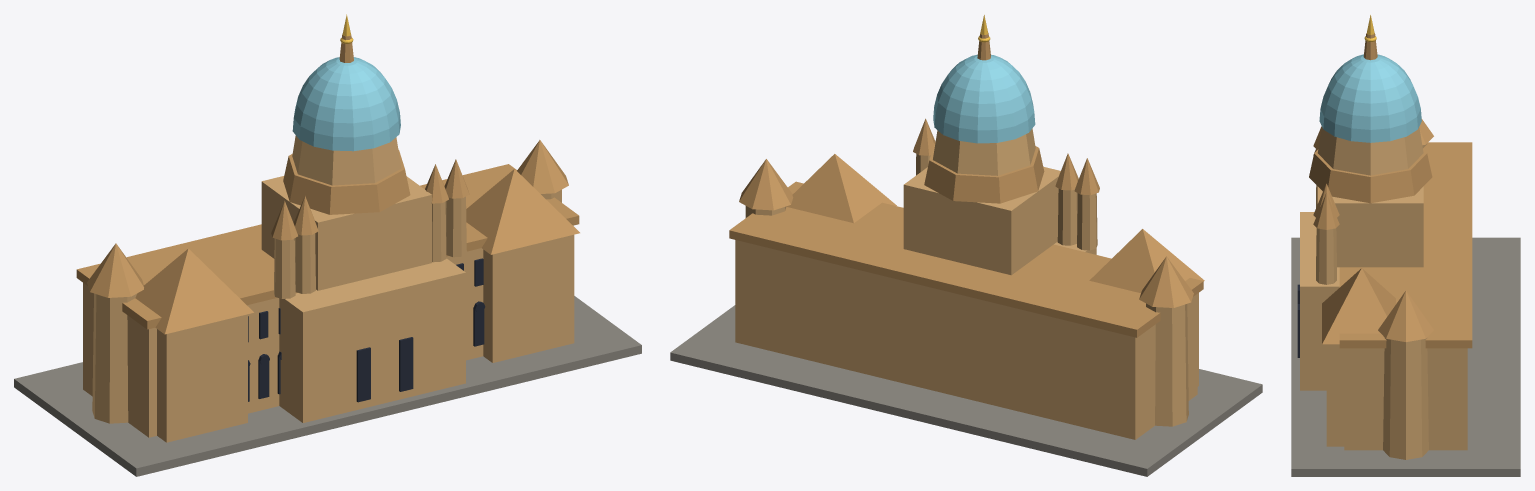
Rendered from csmt.glb.
3 renders of one model, left to right at view 1: azimuth 30°, elevation 25°; view 2: azimuth 150°, elevation 25°; view 3: azimuth 270°, elevation 25°, orthographic. The views are drawn at different scales.
Visible parts, largest first — view 1: csmt; view 2: csmt; view 3: csmt.
Boxes of the visible parts, bbox=[...] form: csmt: bbox=[14, 14, 641, 476]; csmt: bbox=[670, 15, 1262, 476]; csmt: bbox=[1291, 15, 1520, 476].
Bounding box in the file's own units: 5.71 × 4 × 2.4.
